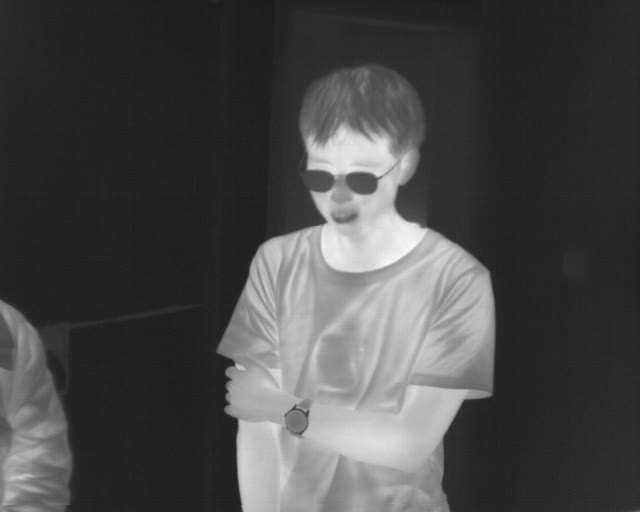face: (296, 62, 427, 234)
